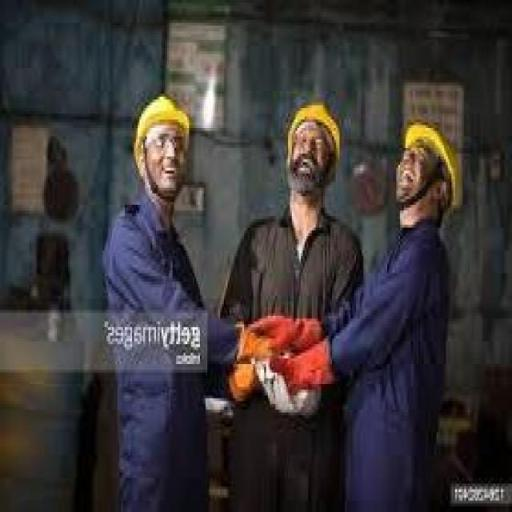helmet: (386, 108, 478, 222), (261, 77, 360, 176), (119, 80, 210, 171)
